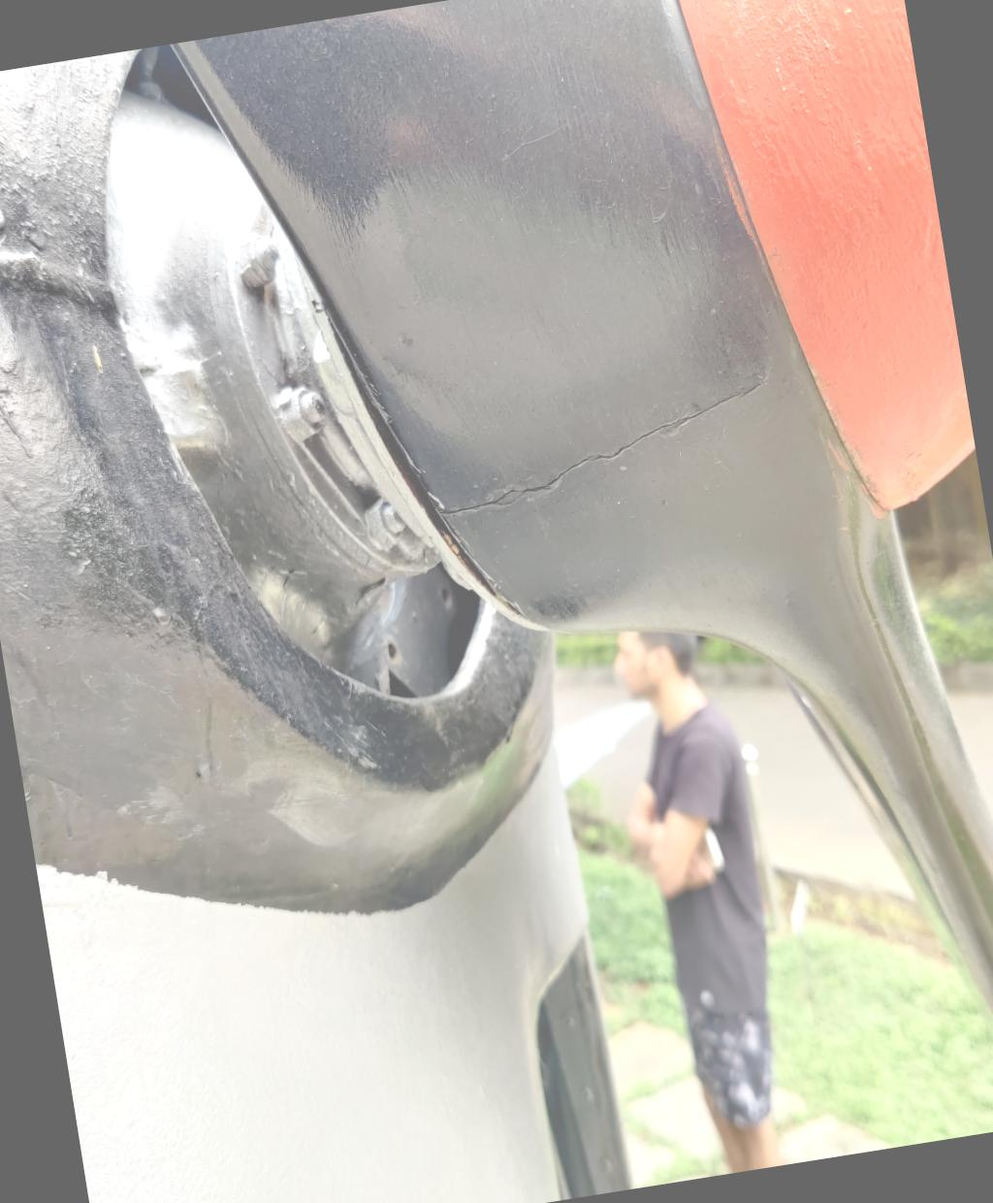crack: (403, 309, 813, 558)
